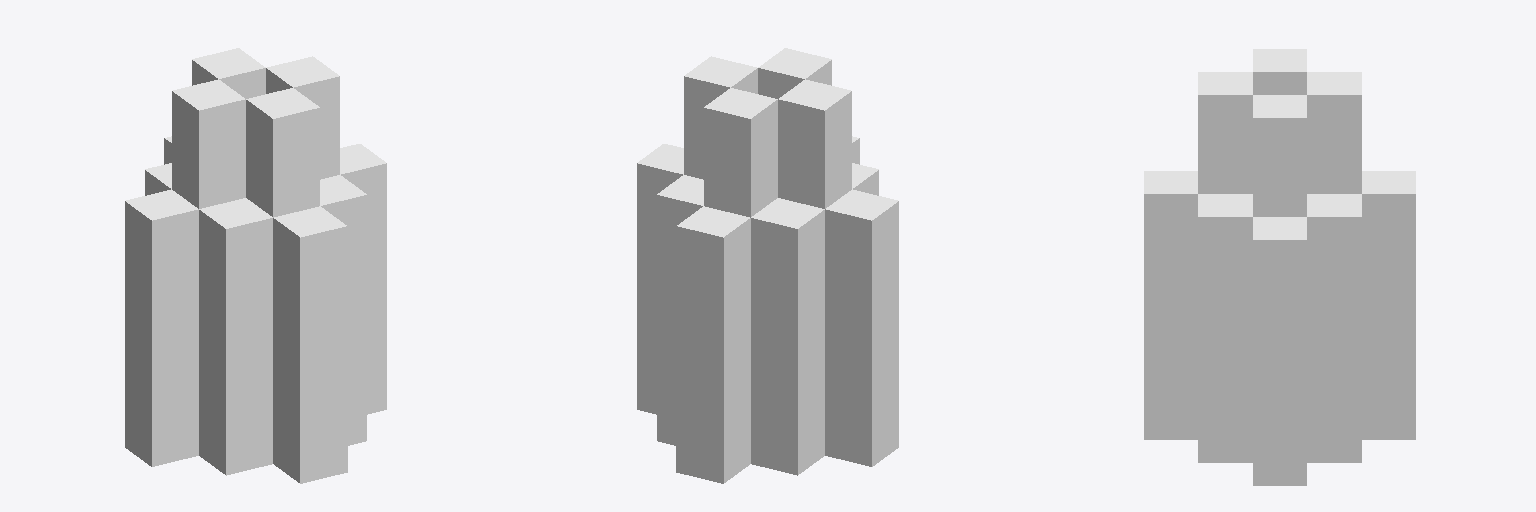
File: Items-4.obj
The picture shows the model from 3 angles: view 1: azimuth 30°, elevation 25°; view 2: azimuth 150°, elevation 25°; view 3: azimuth 270°, elevation 25°; orthographic projection.
Parts seen in each view (by area): view 1: object 1; view 2: object 1; view 3: object 1.
Boxes of the visible parts, box(x1,y1,x2,y2) form: object 1: box(125, 48, 386, 483); object 1: box(637, 48, 898, 483); object 1: box(1144, 49, 1415, 485).
Bounding box in the file's own units: 0.5 × 0.7 × 0.5.